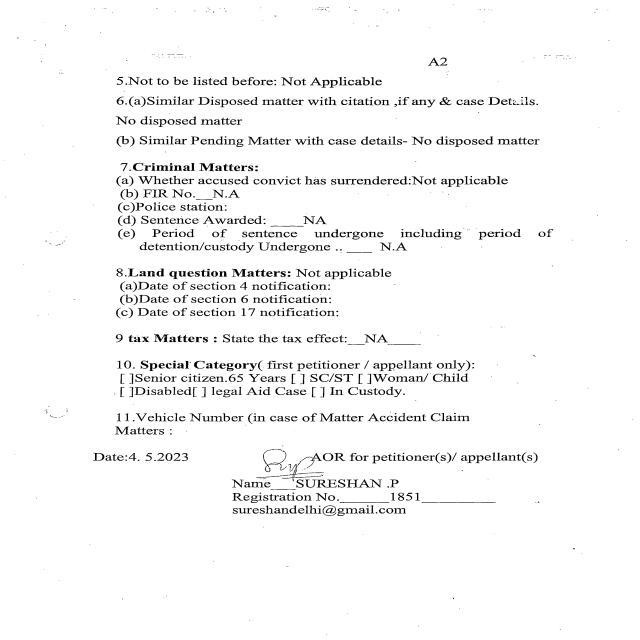page-number: (387, 0, 640, 91)
